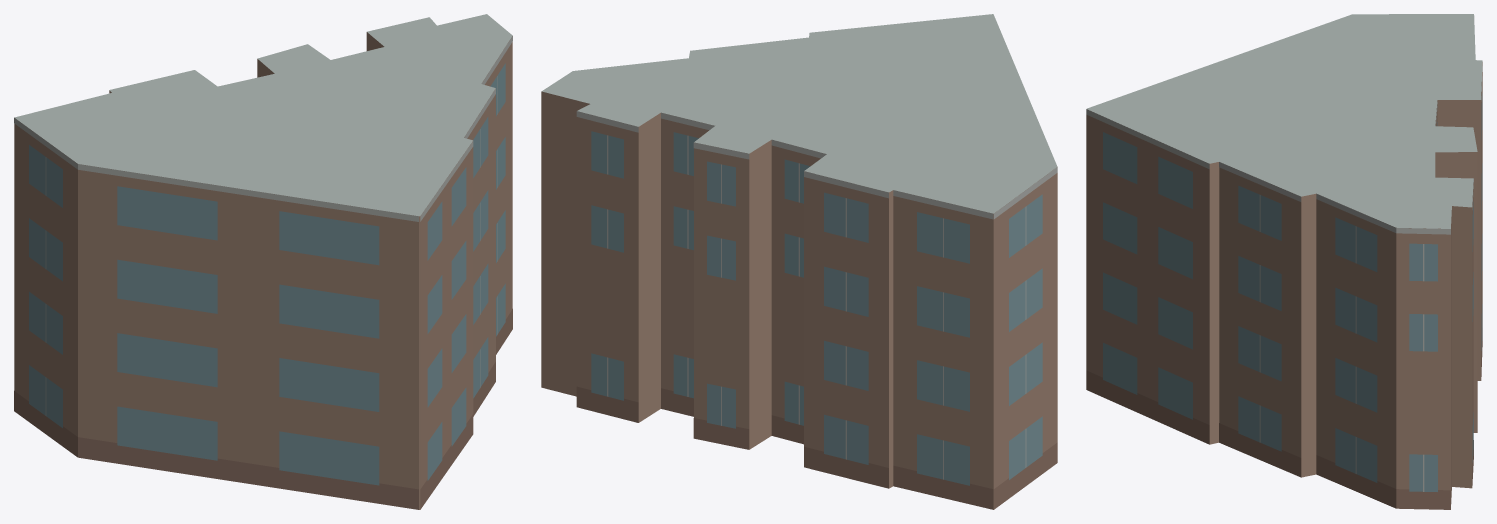
File: survey-upis-32823801.glb
3 views of the same model, side by side, from view 1: azimuth 30°, elevation 25°; view 2: azimuth 150°, elevation 25°; view 3: azimuth 270°, elevation 25° (orthographic). The views are drawn at different scales.
Parts seen in each view (by area): view 1: survey-upis-32823801.tmp; view 2: survey-upis-32823801.tmp; view 3: survey-upis-32823801.tmp.
Part boxes in pixels (<box>): survey-upis-32823801.tmp: <box>14,14,512,509</box>; survey-upis-32823801.tmp: <box>541,14,1057,509</box>; survey-upis-32823801.tmp: <box>1086,14,1482,509</box>.
Size of the model in its own units: 20.2 by 12.3 by 15.73.
